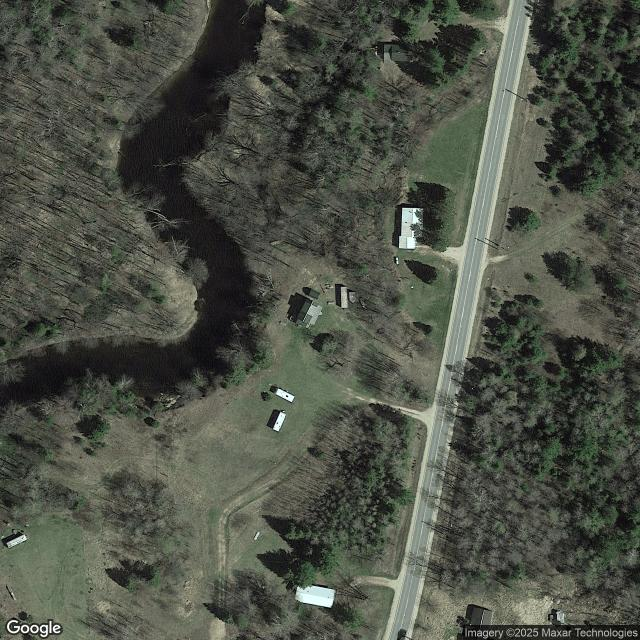Propane: (395, 256, 400, 265)
